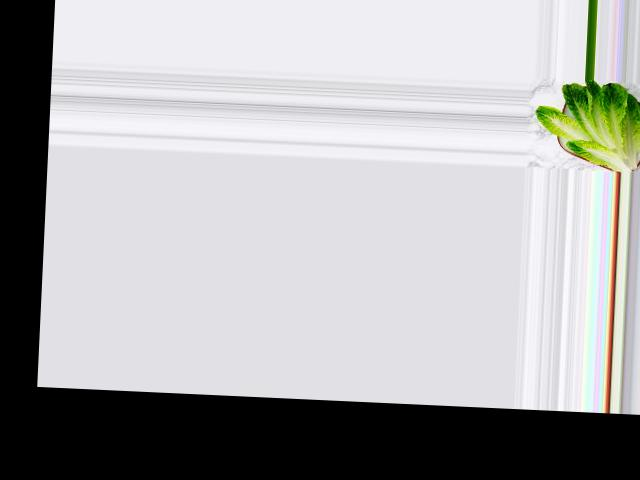lettuce: (531, 76, 640, 170)
